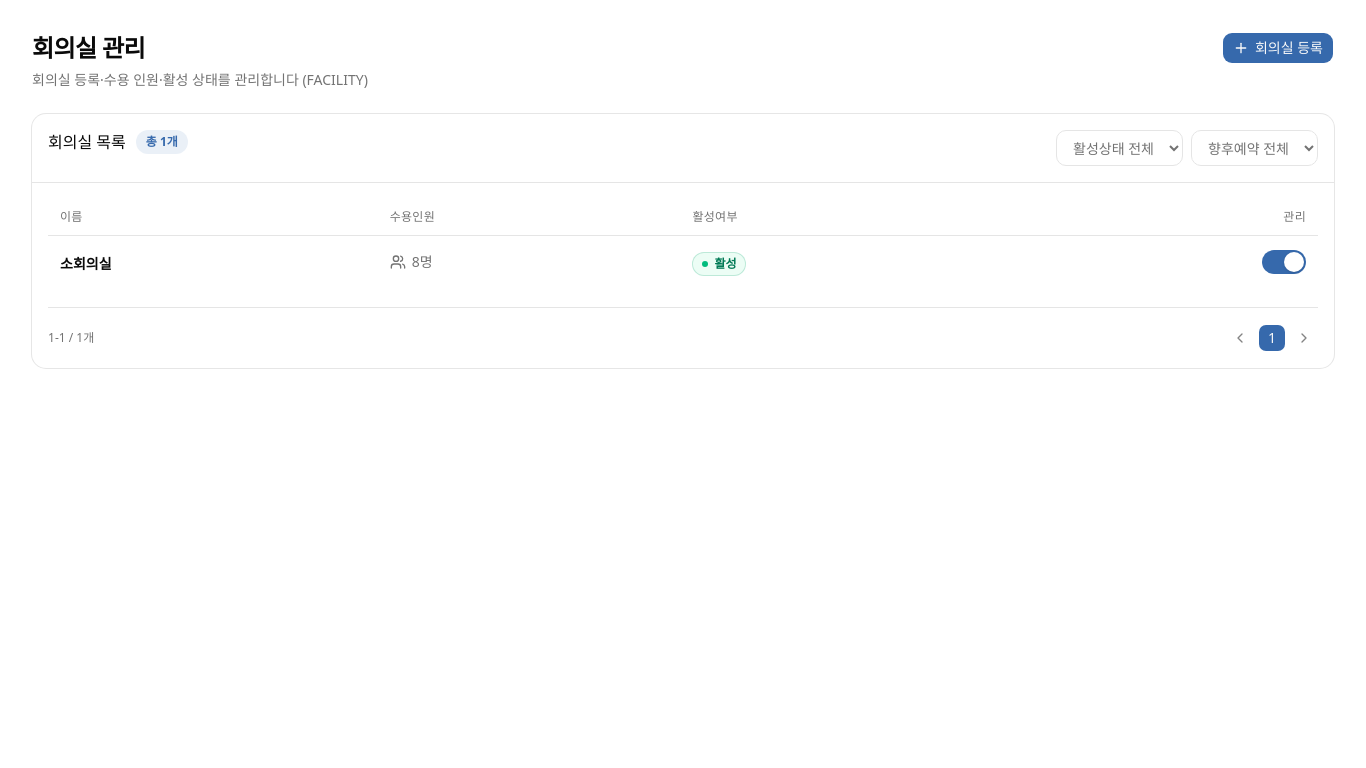
Test case: MeetingRoomManagementPage (F811) - 행 클릭 내비게이션 › 행 내 활성/비활성 토글 버튼 클릭은 stopPropagation으로 행 내비게이션을 트리거하지 않는다
Expected: the text "소회의실" is shown, left=60, top=254, right=112, bottom=272
Click the switch named "회의실 비활성화". click: click(1284, 262)
box: left=1262, top=250, right=1306, bottom=274
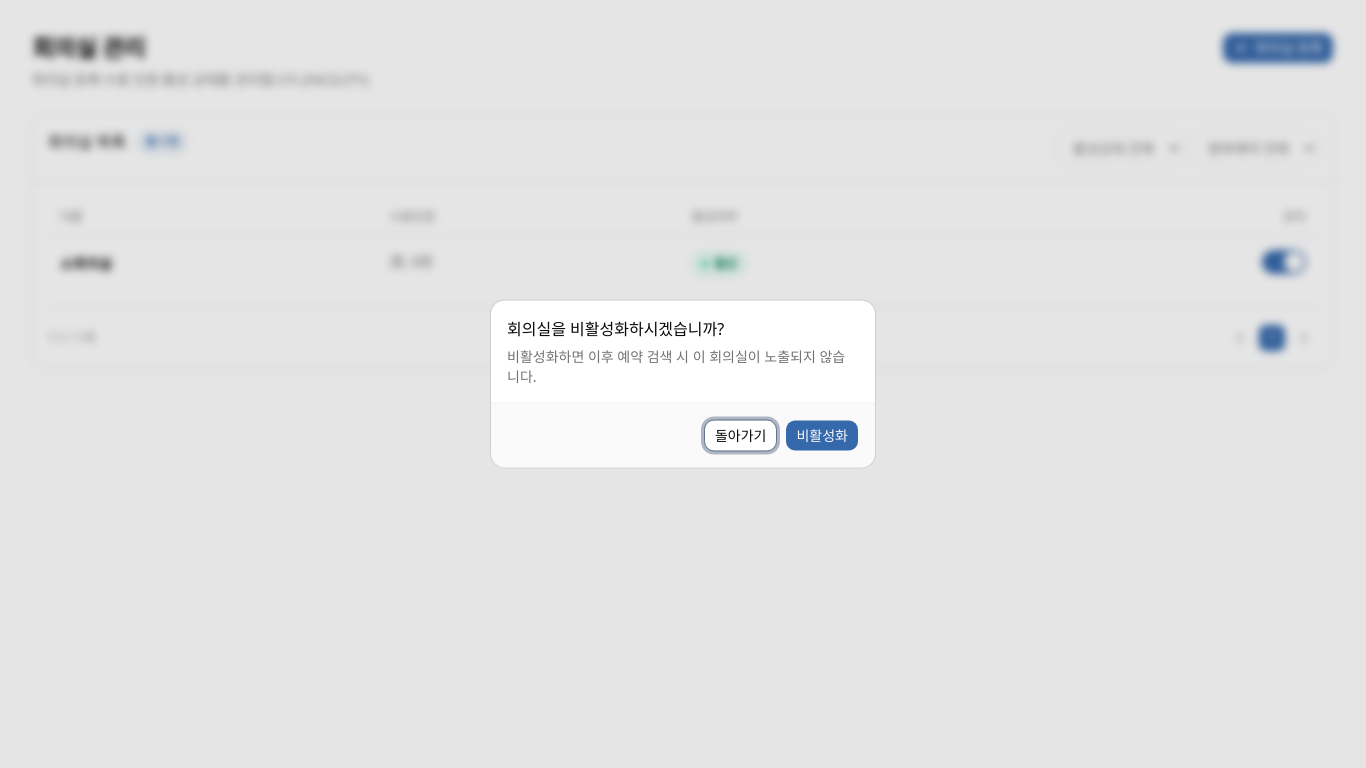
Expected: the heading "회의실을 비활성화하시겠습니까?" is shown, left=507, top=316, right=724, bottom=340
